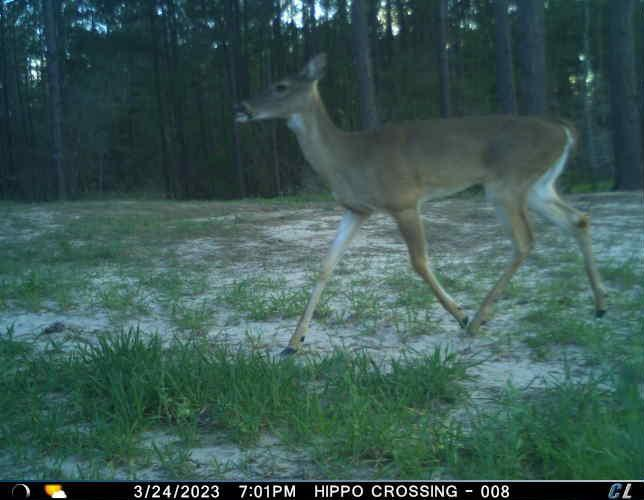Deer: (227, 49, 609, 359)
